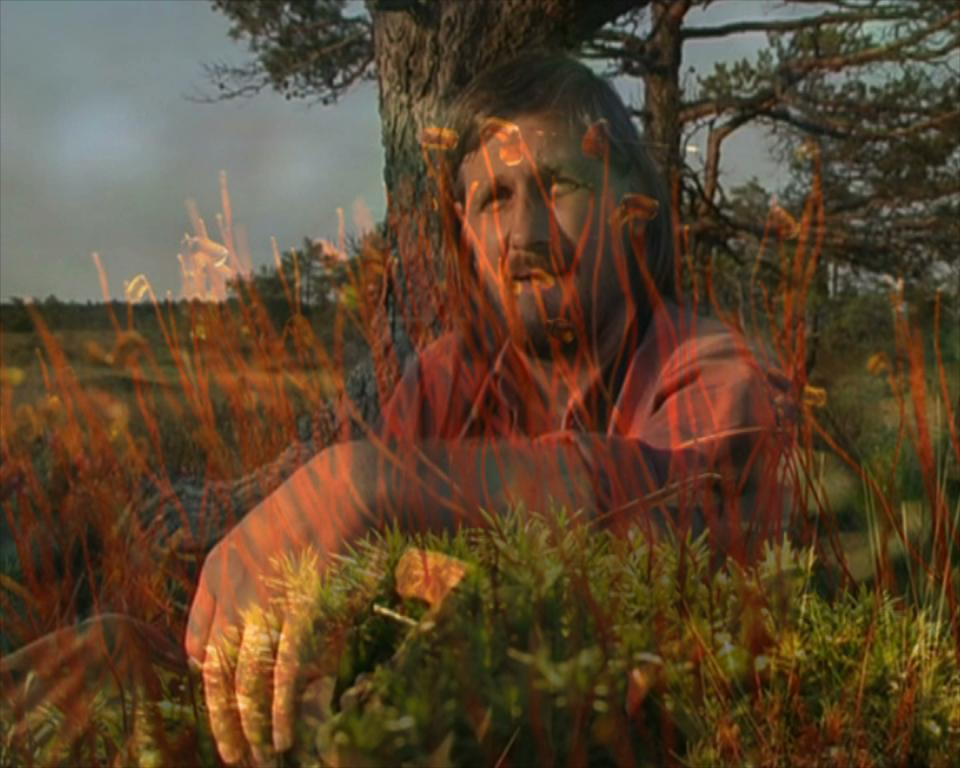Tree: (192, 0, 636, 341), (574, 0, 958, 341)
